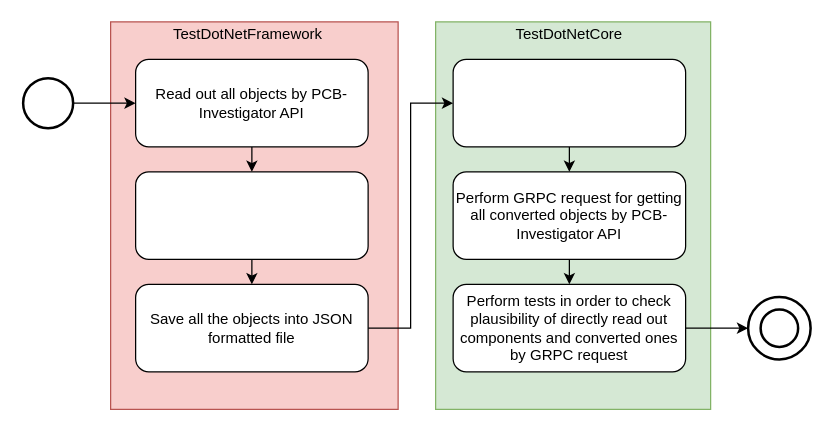
Some shapes in this 833 by 431 pixel diagram are drawn without their labels. Each missing label, with the centre of its shape:
"Convert them into serializable content of interest" goes at (x=251, y=215).
"Read out all objects from JSON formatted file" goes at (x=569, y=102).
